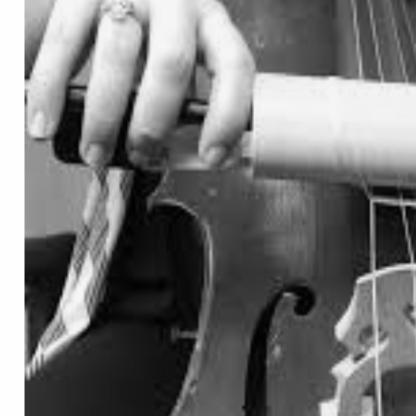good: (25, 0, 256, 192)
